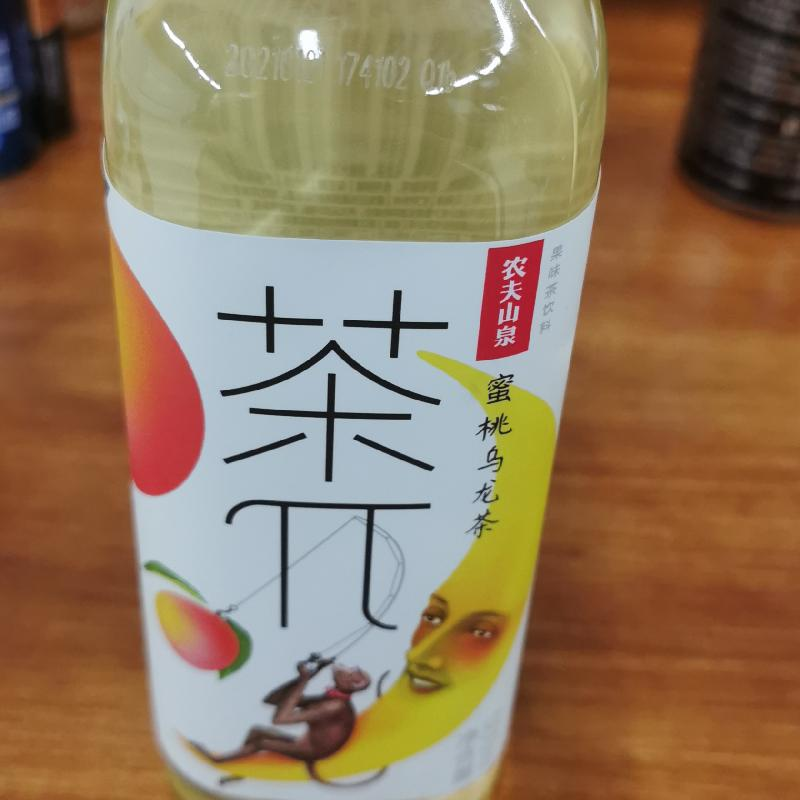bottles: (96, 0, 613, 796)
